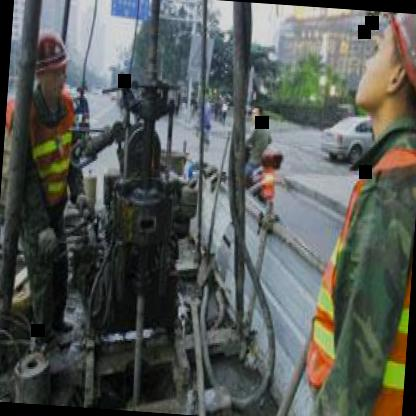helmet: (341, 9, 416, 146), (34, 25, 70, 93)
